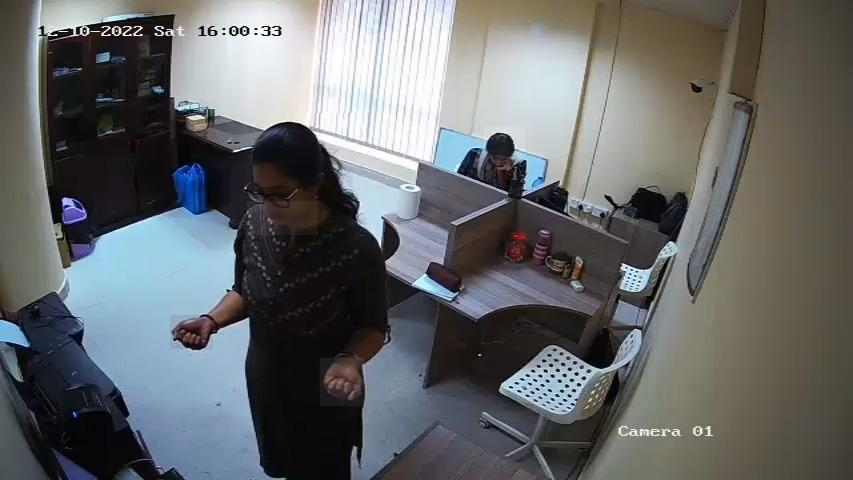no_apron: (320, 358, 364, 406), (170, 315, 213, 349), (496, 161, 519, 189)
no_gloves: (242, 114, 362, 202), (484, 126, 525, 159)
no_hairnet: (248, 190, 318, 236), (485, 150, 510, 170)
